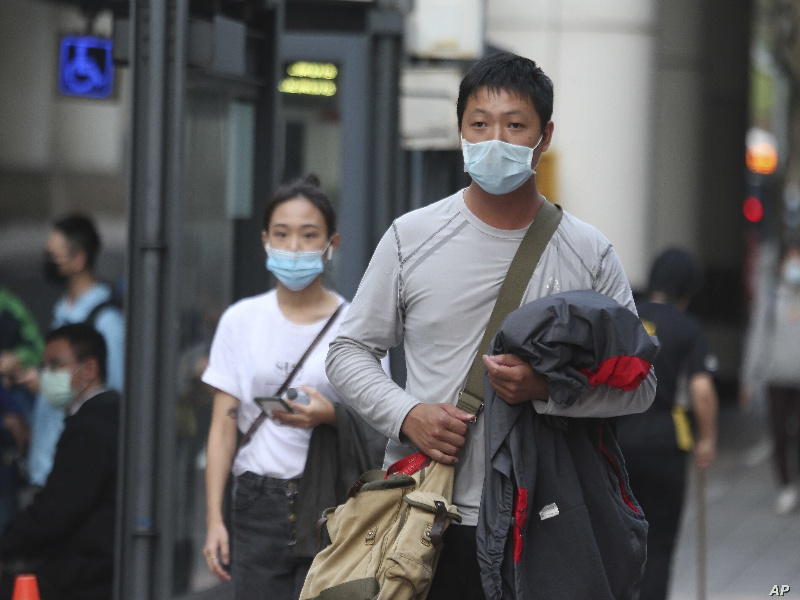ManaoArotava: (446, 54, 559, 204)
